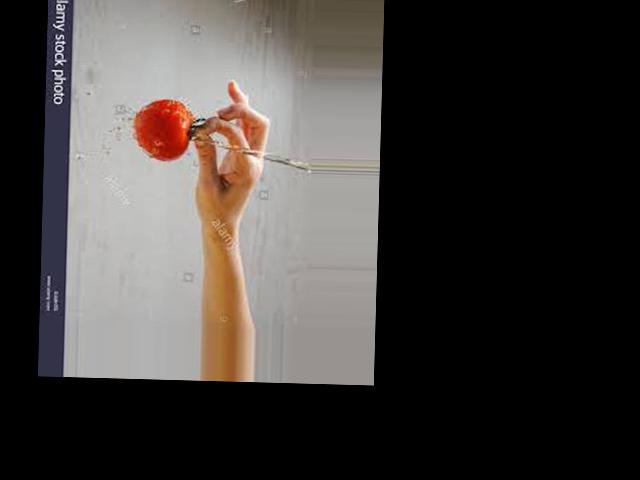tomato: (131, 100, 192, 163)
